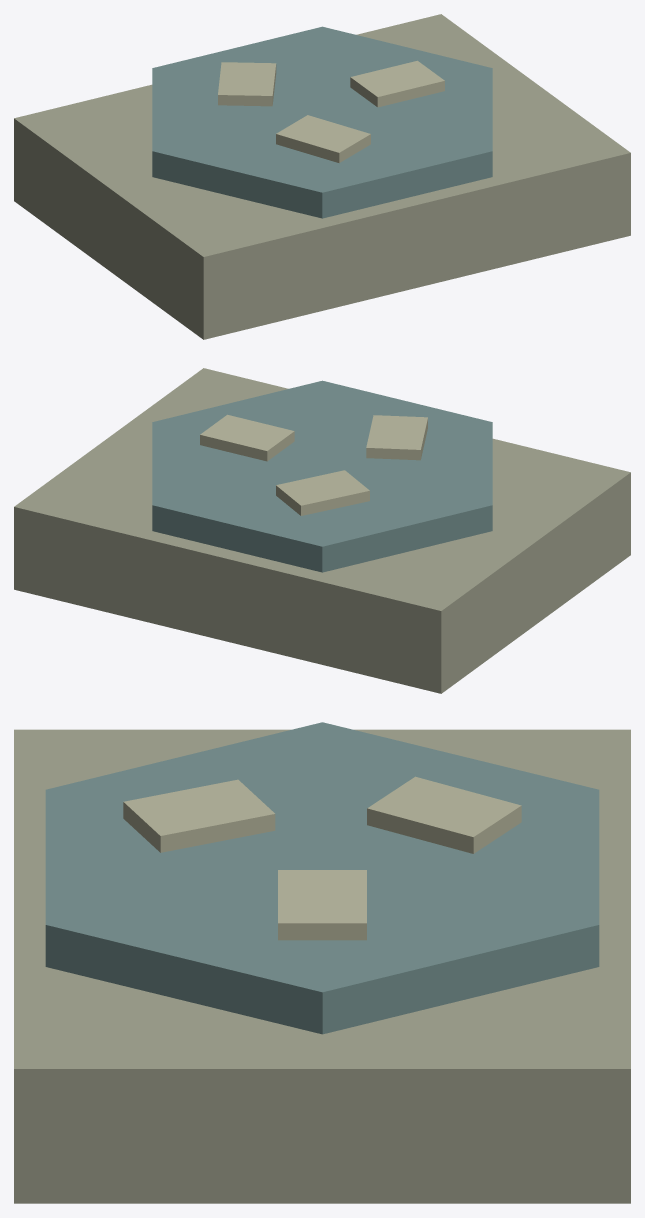
File: map-exclusive-v3__ruins_09.glb
3 renders of one model, top to bottom at view 1: azimuth 30°, elevation 25°; view 2: azimuth 150°, elevation 25°; view 3: azimuth 270°, elevation 25°, orthographic. The views are drawn at different scales.
Visible parts, largest first — view 1: ruins_09; view 2: ruins_09; view 3: ruins_09.
Part boxes in pixels (x1,y1,x2,y2): ruins_09: [14, 14, 630, 339]; ruins_09: [14, 368, 630, 693]; ruins_09: [14, 722, 630, 1203].
Bounding box in the file's own units: 1.08 × 0.2925 × 0.83.
